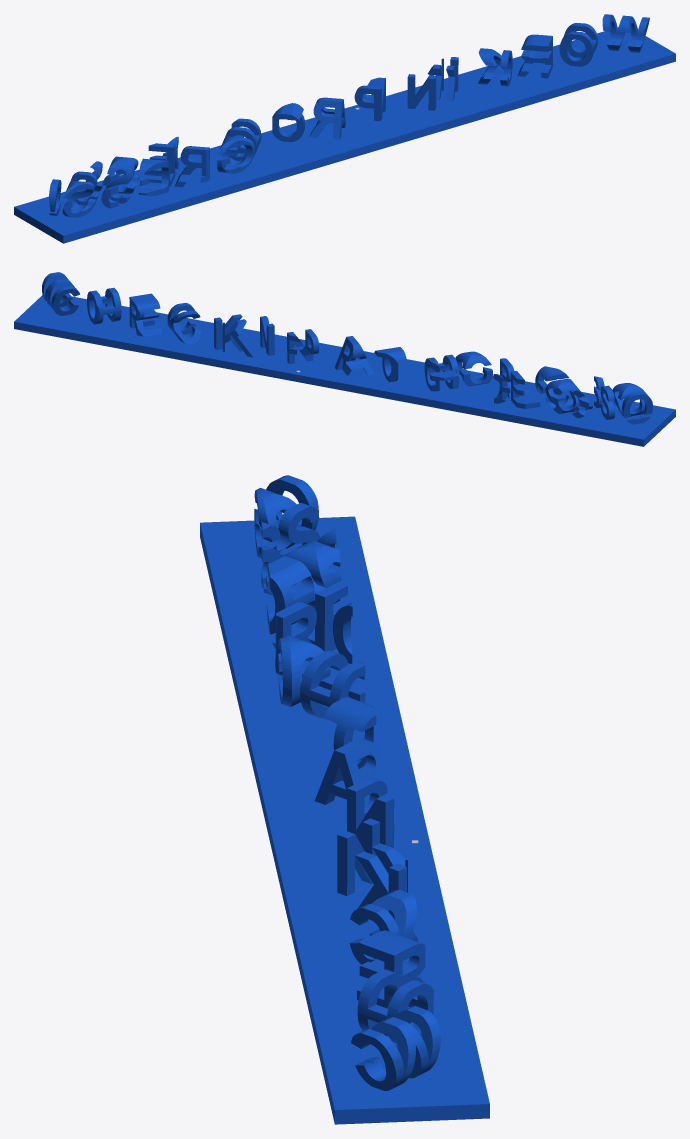
3 views of the same model, one above another, from view 1: azimuth 30°, elevation 25°; view 2: azimuth 150°, elevation 25°; view 3: azimuth 270°, elevation 25° (orthographic). The views are drawn at different scales.
Visible parts, largest first — view 1: anamorphicText; view 2: anamorphicText; view 3: anamorphicText.
Boxes of the visible parts, x1,y1,x2,y2 form: anamorphicText: [14, 14, 675, 243]; anamorphicText: [14, 272, 675, 446]; anamorphicText: [200, 475, 489, 1124].
Size of the model in its own units: 435 by 27.29 by 90.59.
